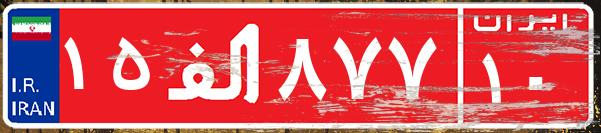0: (525, 38, 570, 115)
1: (57, 26, 110, 107), (475, 38, 525, 113)
5: (110, 28, 158, 105)
7: (385, 28, 445, 110), (330, 28, 385, 110)
8: (273, 28, 330, 110)
الف: (158, 15, 273, 115)
